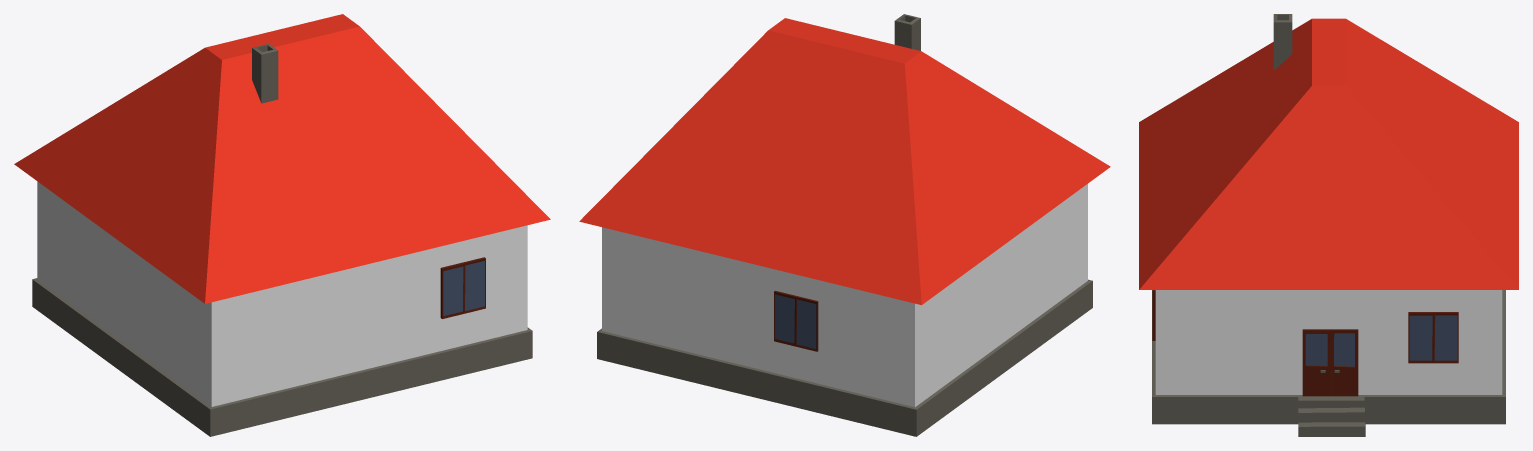
Rendered from rumahputih.gltf.
3 views of the same model, side by side, from view 1: azimuth 30°, elevation 25°; view 2: azimuth 150°, elevation 25°; view 3: azimuth 270°, elevation 25° (orthographic).
Visible parts, largest first — view 1: Cube.013; view 2: Cube.013; view 3: Cube.013.
Boxes of the visible parts, x1=… form: Cube.013: x1=14, y1=14, x2=550, y2=436; Cube.013: x1=579, y1=14, x2=1110, y2=436; Cube.013: x1=1139, y1=14, x2=1518, y2=436.
Bounding box in the file's own units: 1.9 × 1.57 × 1.74.
